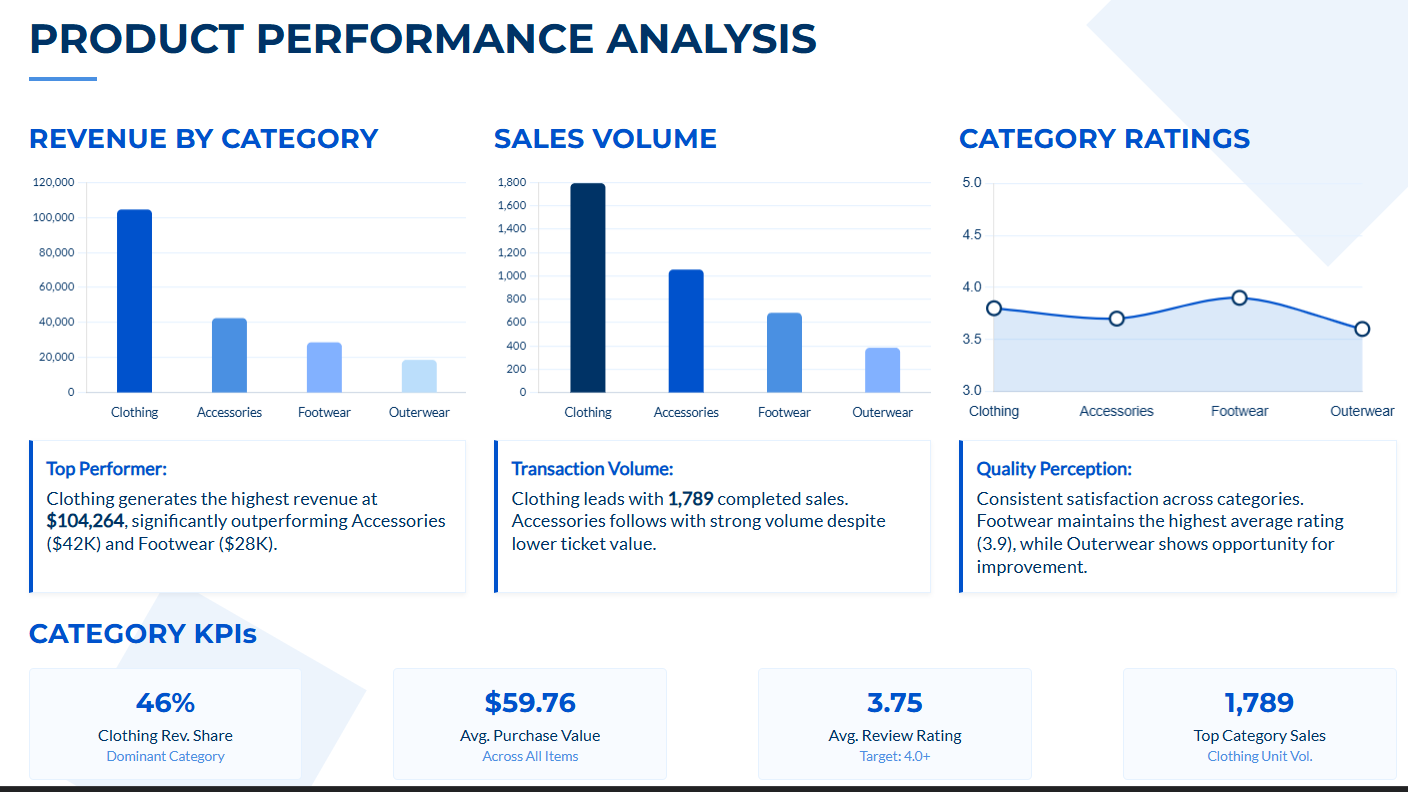

This screenshot's page, from the dashboard's own definition file:
{"tool":"powerbi","page":{"name":"Page 1","canvas":[1500,820],"ordinal":0},"visuals":[{"type":"cardVisual","fields":{"Data":["customer_behavior customer.Number of Customers","customer_behavior customer.Average purchase amount","customer_behavior customer.Average Review Rating"]},"box":[186.9,97.7,1313.7,182.5],"z":0},{"type":"shape","box":[0,0,1500.6,97.7],"z":1000},{"type":"textbox","box":[343.5,4.3,813.5,90.5],"z":2000},{"type":"shape","box":[208.4,257.3,429.8,327.7],"z":3000},{"type":"donutChart","title":"% of Customers by Subscription Status","fields":{"Category":["customer_behavior customer.subscription_status"],"Y":["CountNonNull(customer_behavior customer.customer_id)"]},"box":[230,268.8,385.2,306.2],"z":4000},{"type":"shape","box":[638.2,257.3,429.8,327.7],"z":5000},{"type":"shape","box":[1067.9,257.3,429.8,327.7],"z":6000},{"type":"clusteredColumnChart","title":"Revenue by Category","fields":{"Y":["Sum(customer_behavior customer.purchase_amount)"],"Category":["customer_behavior customer.category"]},"box":[659.9,267.4,385,307],"z":7000},{"type":"clusteredColumnChart","title":"Sales by Category","fields":{"Y":["CountNonNull(customer_behavior customer.customer_id)"],"Category":["customer_behavior customer.category"]},"box":[1090.7,268.7,385,307],"z":8000},{"type":"shape","box":[0,97.8,208,695.8],"z":9000},{"type":"advancedSlicerVisual","fields":{"Values":["customer_behavior customer.subscription_status"]},"box":[16.1,138.7,170.8,81.7],"z":10000},{"type":"advancedSlicerVisual","fields":{"Values":["customer_behavior customer.gender"]},"box":[16.1,227.8,173.3,87.9],"z":11000},{"type":"advancedSlicerVisual","fields":{"Values":["customer_behavior customer.category"]},"box":[16.1,321.9,180.8,242.7],"z":12000},{"type":"listSlicer","fields":{"Values":["customer_behavior customer.shipping_type"]},"box":[22.3,574.4,167.1,208],"z":13000},{"type":"shape","box":[208,575.7,645,243.9],"z":15000},{"type":"shape","box":[853,575.7,645,243.9],"z":16000},{"type":"clusteredBarChart","title":"Sales by Age Group ","fields":{"Y":["CountNonNull(customer_behavior customer.customer_id)"],"Category":["customer_behavior customer.age_group"]},"box":[875.3,586.8,602.9,222.8],"z":16001},{"type":"clusteredBarChart","title":"Revenue by Age Group ","fields":{"Y":["Sum(customer_behavior customer.purchase_amount)"],"Category":["customer_behavior customer.age_group"]},"box":[229,585.6,602.9,222.8],"z":16002}]}

Visuals, with their boxes in screenshot pixels (x1, y1, x2, y2), scaled from the page's 1500x820 canvas onto the 1408x792 screenshot:
cardVisual - customer_behavior customer.Number of Customers x customer_behavior customer.Average purchase amount: bbox=[175, 94, 1407, 271]
shape: bbox=[0, 0, 1407, 94]
textbox: bbox=[322, 4, 1086, 92]
shape: bbox=[196, 249, 599, 565]
"% of Customers by Subscription Status" donutChart: bbox=[216, 260, 577, 555]
shape: bbox=[599, 249, 1002, 565]
shape: bbox=[1002, 249, 1406, 565]
"Revenue by Category" clusteredColumnChart: bbox=[619, 258, 981, 555]
"Sales by Category" clusteredColumnChart: bbox=[1024, 260, 1385, 556]
shape: bbox=[0, 94, 195, 767]
advancedSlicerVisual - customer_behavior customer.subscription_status: bbox=[15, 134, 175, 213]
advancedSlicerVisual - customer_behavior customer.gender: bbox=[15, 220, 178, 305]
advancedSlicerVisual - customer_behavior customer.category: bbox=[15, 311, 185, 545]
listSlicer - customer_behavior customer.shipping_type: bbox=[21, 555, 178, 756]
shape: bbox=[195, 556, 801, 791]
shape: bbox=[801, 556, 1406, 791]
"Sales by Age Group " clusteredBarChart: bbox=[822, 567, 1388, 782]
"Revenue by Age Group " clusteredBarChart: bbox=[215, 566, 781, 781]
